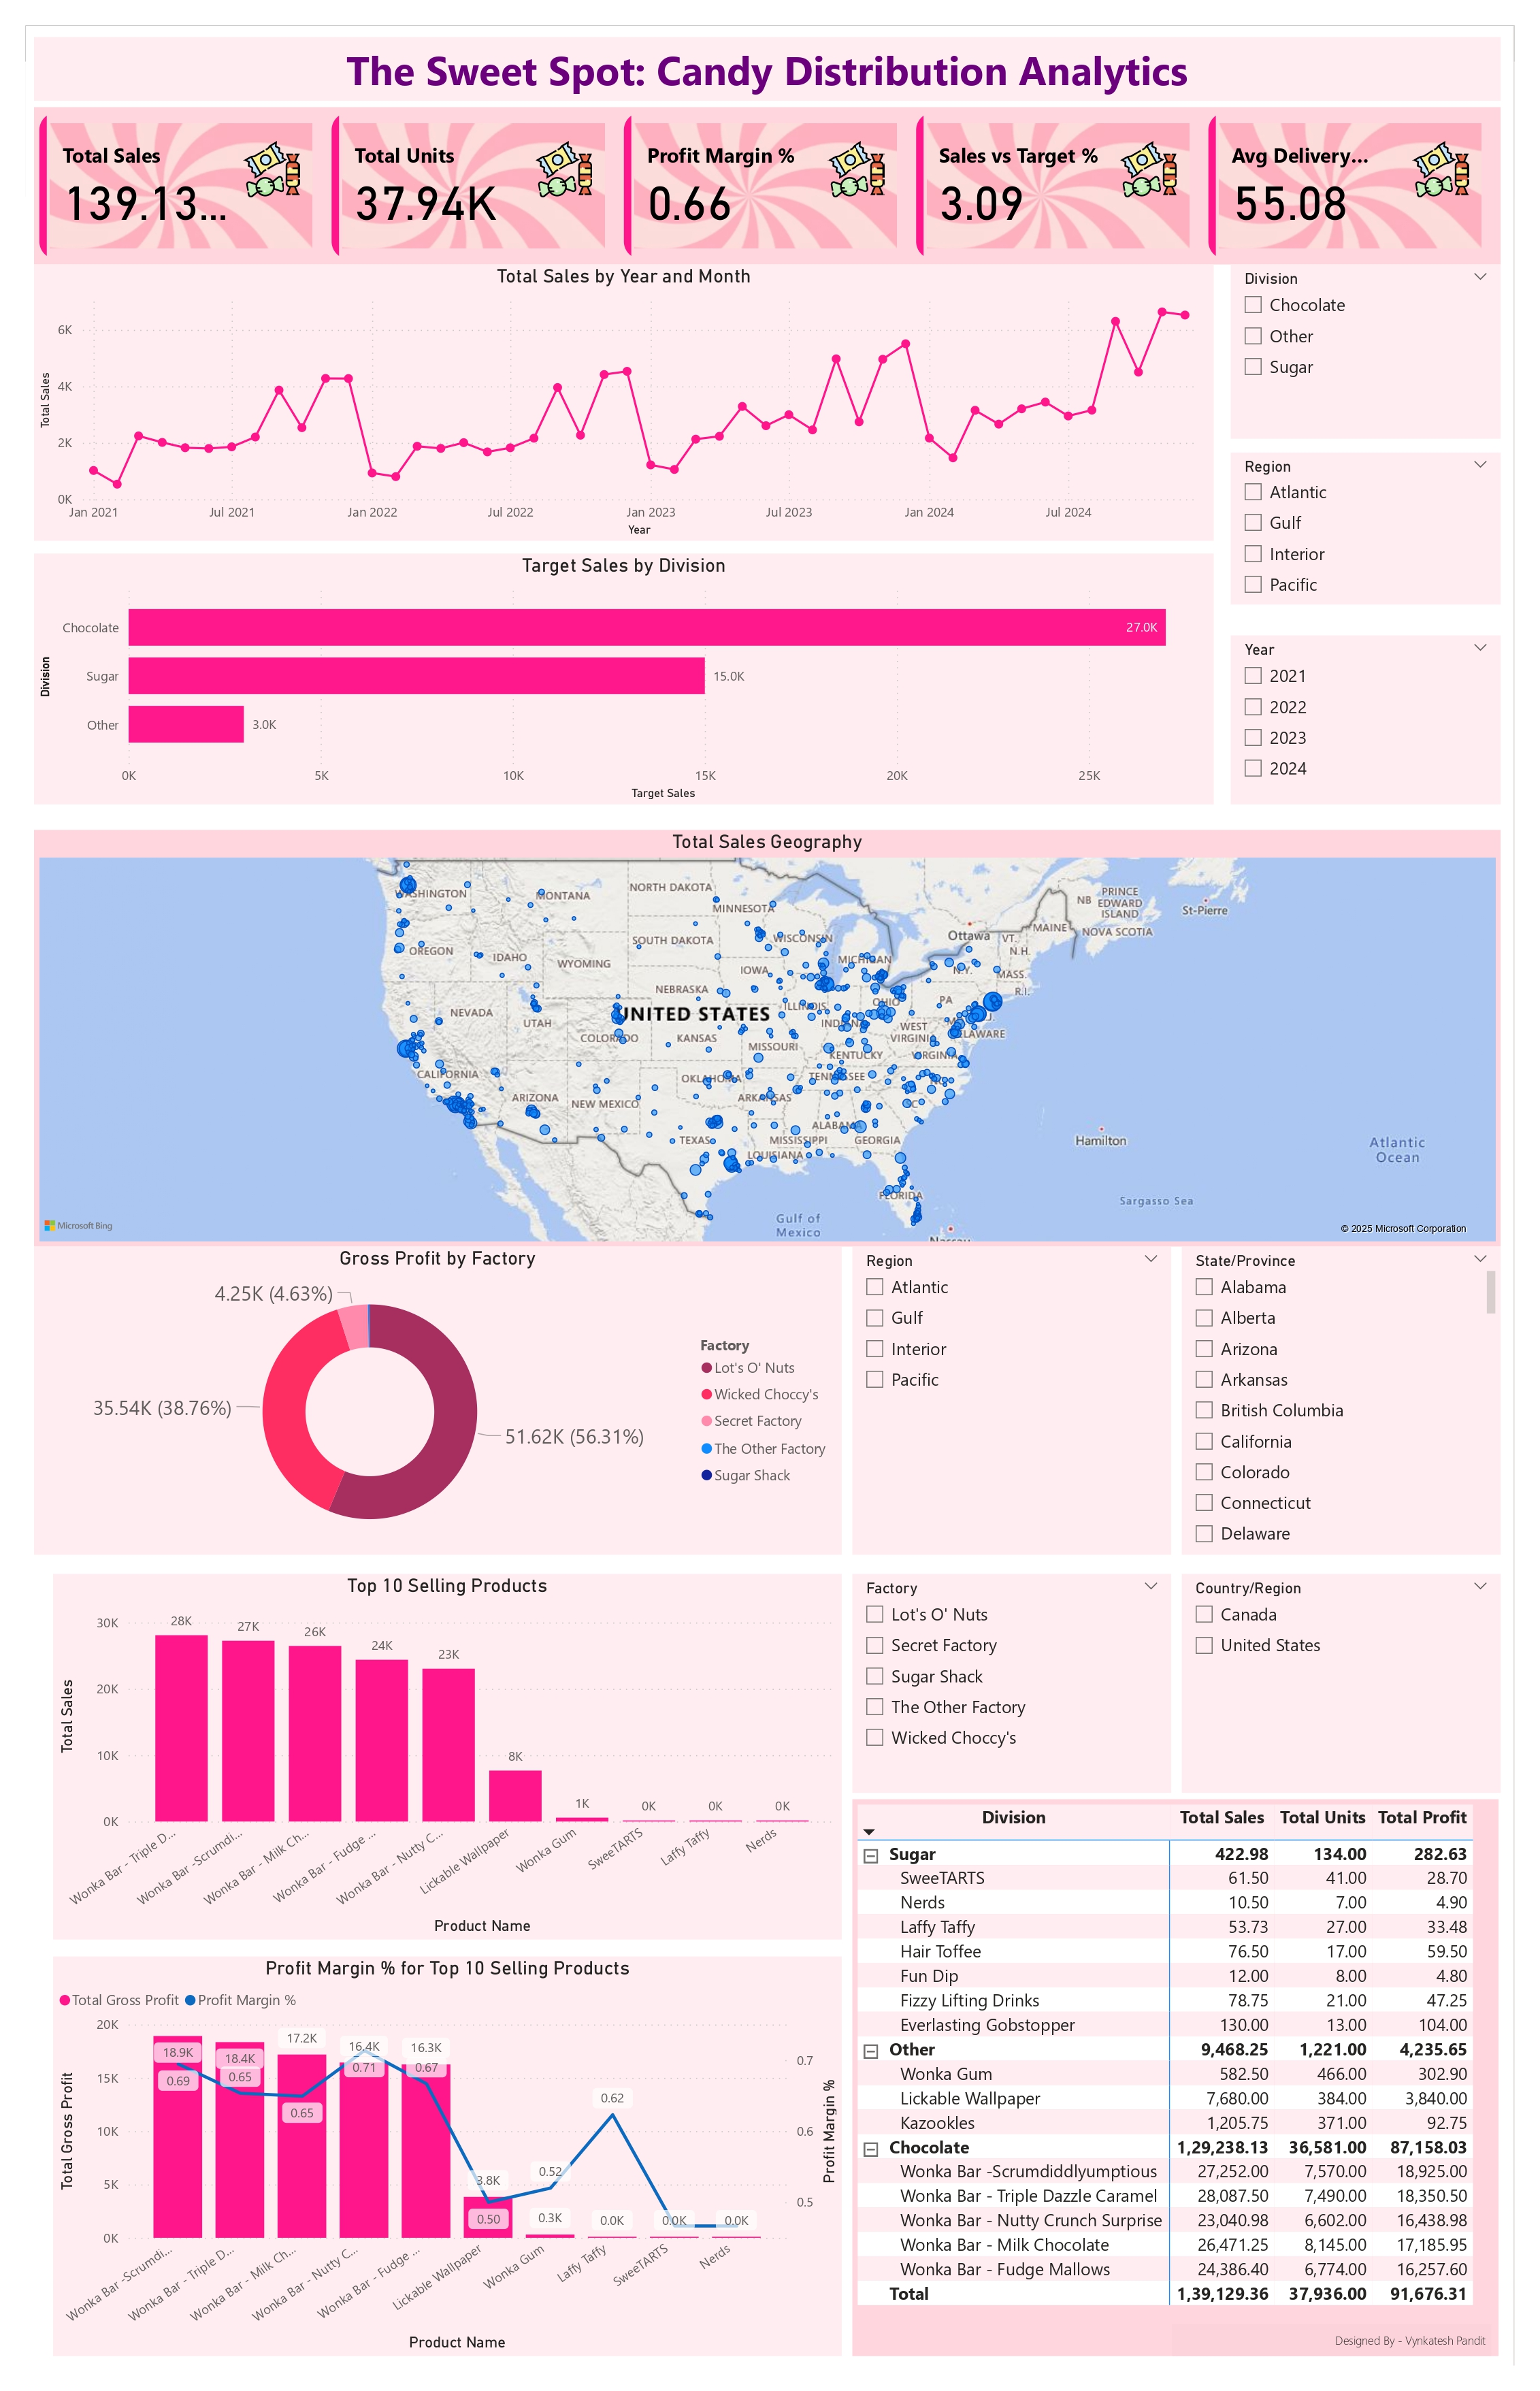

This screenshot's page, from the dashboard's own definition file:
{"tool":"powerbi","page":{"name":"Final Report","canvas":[1400,2200],"ordinal":0},"visuals":[{"type":"cardVisual","fields":{"Data":["Candy_Sales.Total Sales","Candy_Sales.Total Units","Candy_Sales.Profit Margin %","Candy_Targets.Sales vs Target %","Candy_Sales.Avg Delivery Days"]},"box":[8,76,1380,148],"z":0},{"type":"lineChart","fields":{"Y":["Sum(Candy_Sales.Sales)"],"Category":["Candy_Sales.Order Date.Variation.Date Hierarchy.Year","Candy_Sales.Order Date.Variation.Date Hierarchy.Month"]},"box":[8,224,1110,260],"z":1000},{"type":"clusteredBarChart","fields":{"Category":["Candy_Targets.Division"],"Y":["Candy_Targets.Target Sales"]},"box":[8,496,1110,236],"z":2000},{"type":"slicer","fields":{"Values":["Candy_Targets.Division"]},"box":[1134,224,248,164],"z":3000},{"type":"slicer","fields":{"Values":["Candy_Sales.Region"]},"box":[1134,401.6,248.8,143.4],"z":4000},{"type":"slicer","fields":{"Values":["Candy_Sales.Order Date.Variation.Date Hierarchy.Year"]},"box":[1134,572.8,248.8,159.5],"z":5000},{"type":"map","title":"Total Sales Geography","fields":{"Size":["Candy_Sales.Total Sales"],"X":["Candy_US_Zips.lng"],"Y":["Candy_US_Zips.lat"]},"box":[8,756,1380,392],"z":6000},{"type":"slicer","fields":{"Values":["Candy_Sales.Region"]},"box":[778,1148,300,290],"z":7000},{"type":"slicer","fields":{"Values":["Candy_Sales.State/Province"]},"box":[1088,1148,300,290],"z":8000},{"type":"donutChart","fields":{"Category":["Candy_Factories.Factory"],"Y":["Candy_Sales.Total Gross Profit"]},"box":[8,1148,760,290],"z":9000},{"type":"pivotTable","fields":{"Values":["Sum(Candy_Sales.Sales)","Sum(Candy_Sales.Units)","Sum(Candy_Sales.Gross Profit)"],"Rows":["Candy_Sales.Division","Candy_Products.Product Name"]},"box":[778,1668,608,524],"z":10000},{"type":"clusteredColumnChart","title":"Top 10 Selling Products","fields":{"Category":["Candy_Sales.Product Name"],"Y":["Candy_Sales.Total Sales"]},"box":[26,1456,742,344],"z":11000},{"type":"lineStackedColumnComboChart","title":"Profit Margin % for Top 10 Selling Products","fields":{"Category":["Candy_Sales.Product Name"],"Y":["Sum(Candy_Sales.Gross Profit)"],"Y2":["Candy_Sales.Profit Margin %"]},"box":[26,1816,742,376],"z":12000},{"type":"slicer","fields":{"Values":["Candy_Factories.Factory"]},"box":[778,1456,300,206],"z":13000},{"type":"slicer","fields":{"Values":["Candy_Sales.Country/Region"]},"box":[1088,1456,294,206],"z":14000},{"type":"textbox","box":[8,10,1374,60],"z":15000},{"type":"textbox","box":[1078.9,2162.2,300,30],"z":15001}]}

Visuals, with their boxes in screenshot pixels (x1, y1, x2, y2):
cardVisual - Candy_Sales.Total Sales x Candy_Sales.Total Units: bbox=(34, 106, 1502, 264)
lineChart - Sum(Candy_Sales.Sales) x Candy_Sales.Order Date.Variation.Date Hierarchy.Year: bbox=(34, 264, 1215, 540)
clusteredBarChart - Candy_Targets.Division x Candy_Targets.Target Sales: bbox=(34, 553, 1215, 804)
slicer - Candy_Targets.Division: bbox=(1232, 264, 1495, 438)
slicer - Candy_Sales.Region: bbox=(1232, 453, 1496, 605)
slicer - Candy_Sales.Order Date.Variation.Date Hierarchy.Year: bbox=(1232, 635, 1496, 804)
"Total Sales Geography" map: bbox=(34, 830, 1502, 1247)
slicer - Candy_Sales.Region: bbox=(853, 1247, 1172, 1555)
slicer - Candy_Sales.State/Province: bbox=(1183, 1247, 1502, 1555)
donutChart - Candy_Factories.Factory x Candy_Sales.Total Gross Profit: bbox=(34, 1247, 842, 1555)
pivotTable - Sum(Candy_Sales.Sales) x Sum(Candy_Sales.Units): bbox=(853, 1800, 1500, 2357)
"Top 10 Selling Products" clusteredColumnChart: bbox=(53, 1574, 842, 1940)
"Profit Margin % for Top 10 Selling Products" lineStackedColumnComboChart: bbox=(53, 1957, 842, 2357)
slicer - Candy_Factories.Factory: bbox=(853, 1574, 1172, 1793)
slicer - Candy_Sales.Country/Region: bbox=(1183, 1574, 1495, 1793)
textbox: bbox=(34, 36, 1495, 100)
textbox: bbox=(1173, 2325, 1492, 2357)
